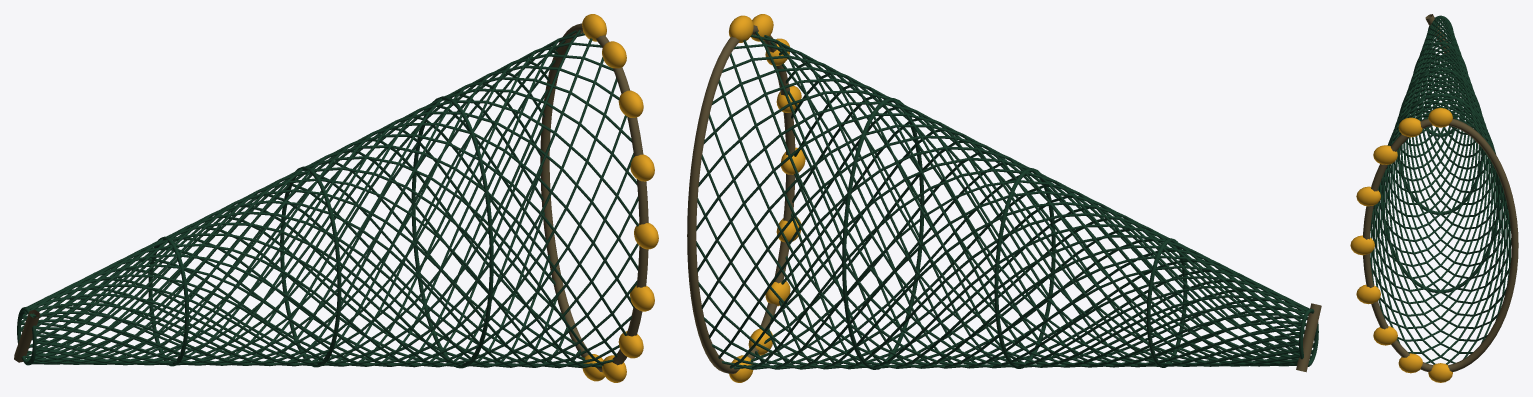
The model's file is SM_TrawlNet.obj.
The picture shows the model from 3 angles, left to right: view 1: azimuth 30°, elevation 25°; view 2: azimuth 150°, elevation 25°; view 3: azimuth 270°, elevation 25°; orthographic projection. The views are drawn at different scales.
Visible parts, largest first — view 1: SM_TrawlNet; view 2: SM_TrawlNet; view 3: SM_TrawlNet.
Boxes of the visible parts, x1,y1,x2,y2 form: SM_TrawlNet: (14,14,658,382); SM_TrawlNet: (687,14,1321,382); SM_TrawlNet: (1350,14,1518,382).
Size of the model in its own units: 441 by 264 by 147.
